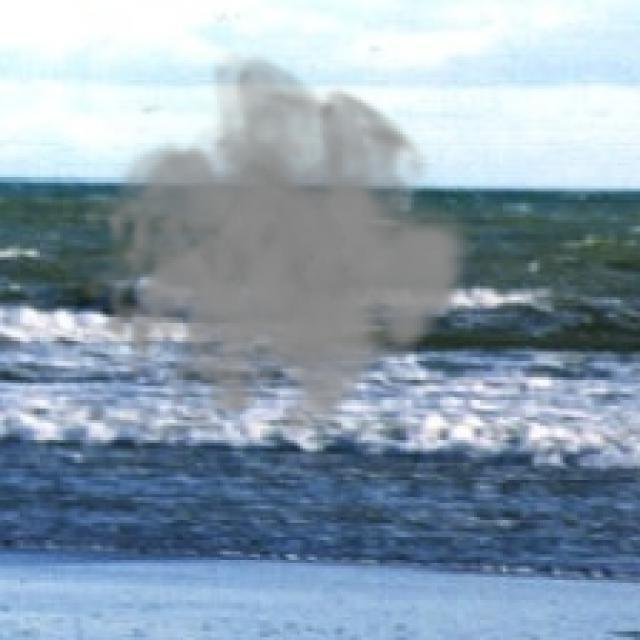Smoke: (80, 48, 477, 454)
